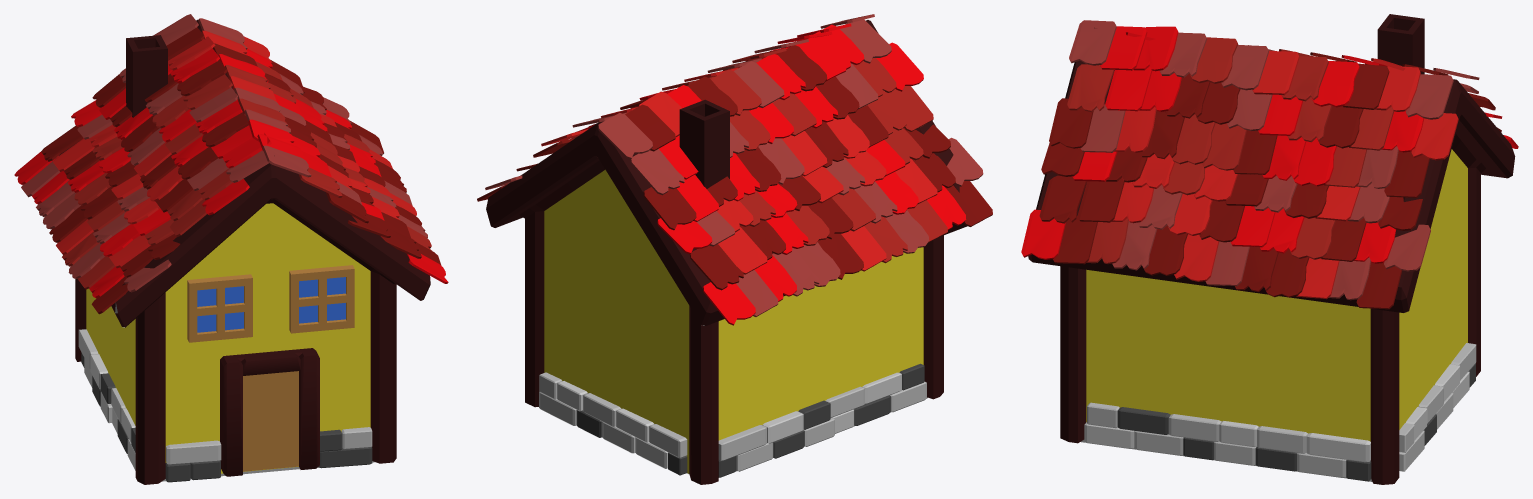
The model's file is house_lev4.glb.
The picture shows the model from 3 angles, left to right: view 1: azimuth 30°, elevation 25°; view 2: azimuth 150°, elevation 25°; view 3: azimuth 270°, elevation 25°; orthographic projection. The views are drawn at different scales.
Visible parts, largest first — view 1: house_lev4; view 2: house_lev4; view 3: house_lev4.
Boxes of the visible parts, x1,y1,x2,y2 form: house_lev4: (14,14,448,484); house_lev4: (477,14,992,484); house_lev4: (1021,14,1518,484).
Size of the model in its own units: 1.58 by 1.29 by 1.57.
